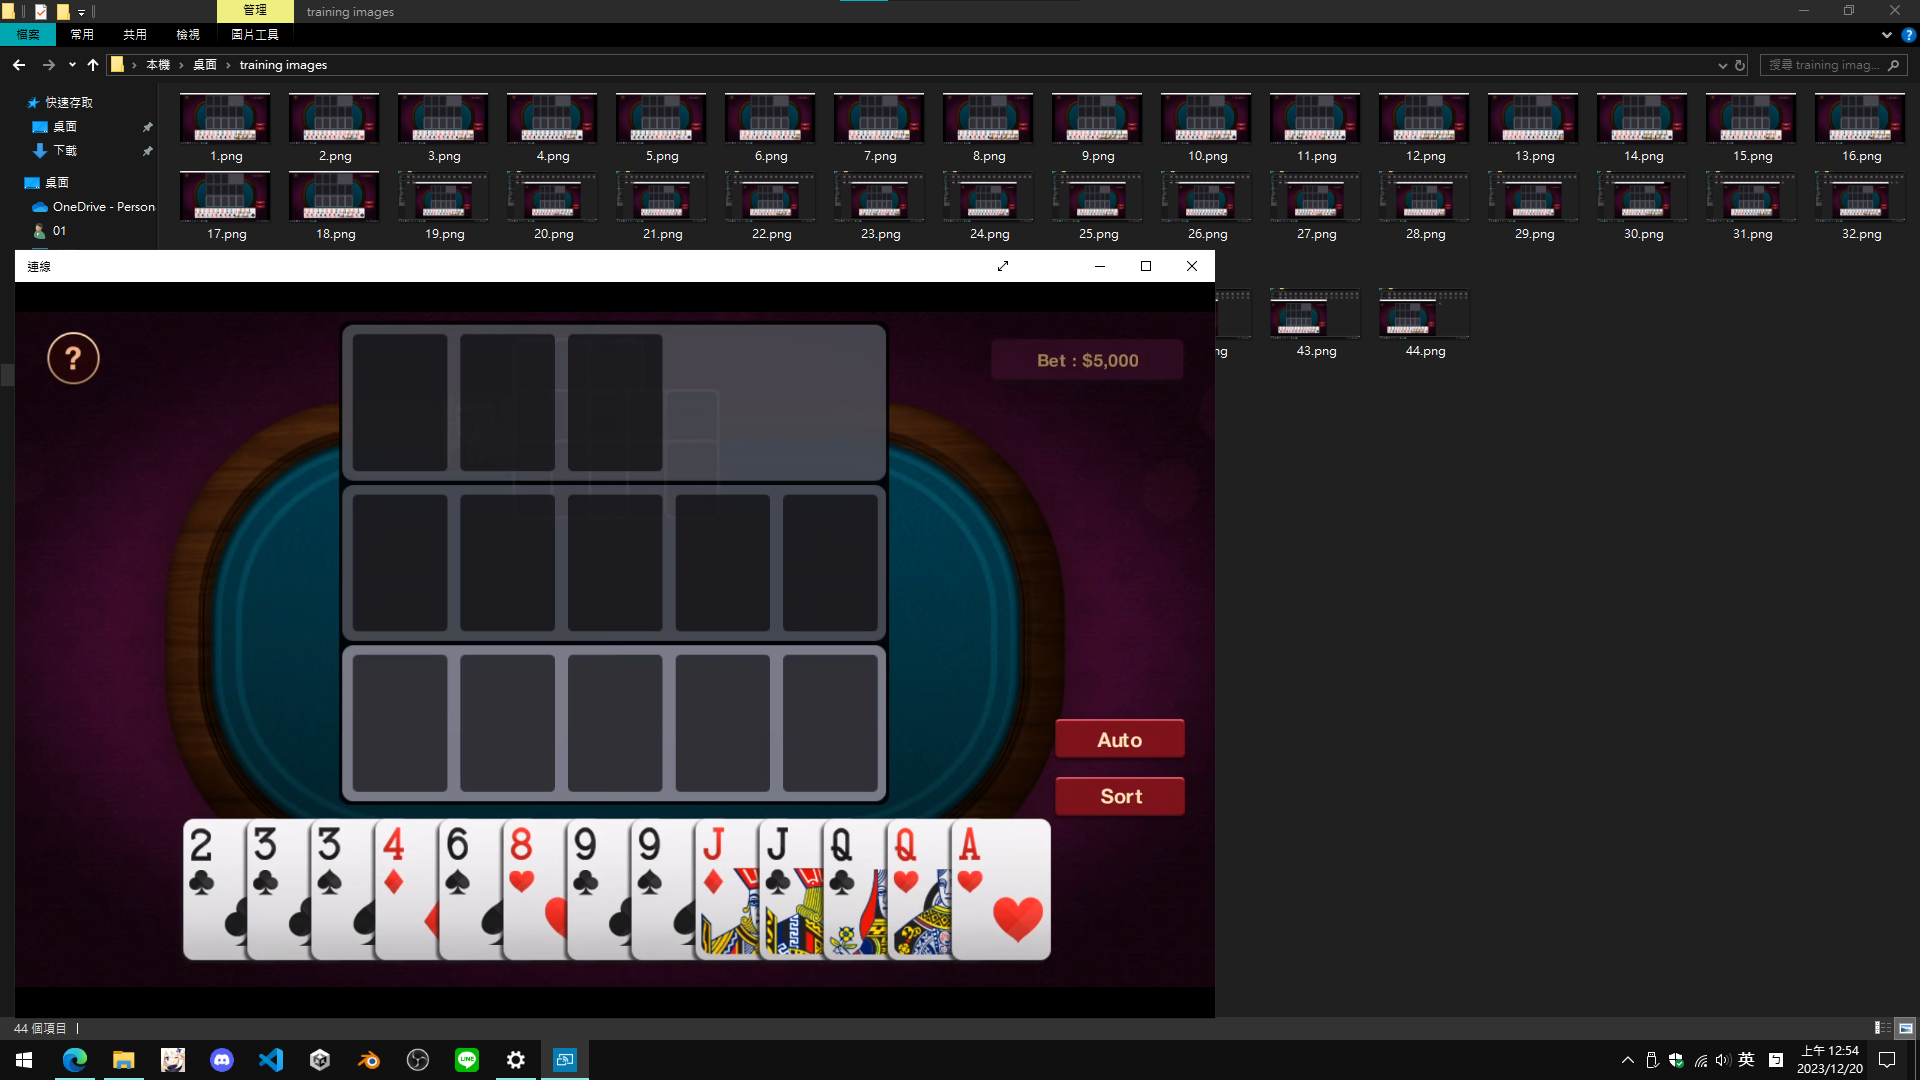2C: (187, 824, 218, 903)
3C: (251, 824, 281, 899)
3S: (315, 824, 345, 899)
4D: (378, 824, 407, 899)
6S: (443, 823, 475, 899)
8H: (508, 824, 538, 901)
9C: (571, 824, 600, 901)
9S: (633, 824, 667, 899)
AH: (955, 823, 985, 899)
JC: (765, 823, 791, 897)
JD: (702, 824, 729, 898)
QC: (827, 824, 857, 899)
QH: (891, 823, 920, 895)
